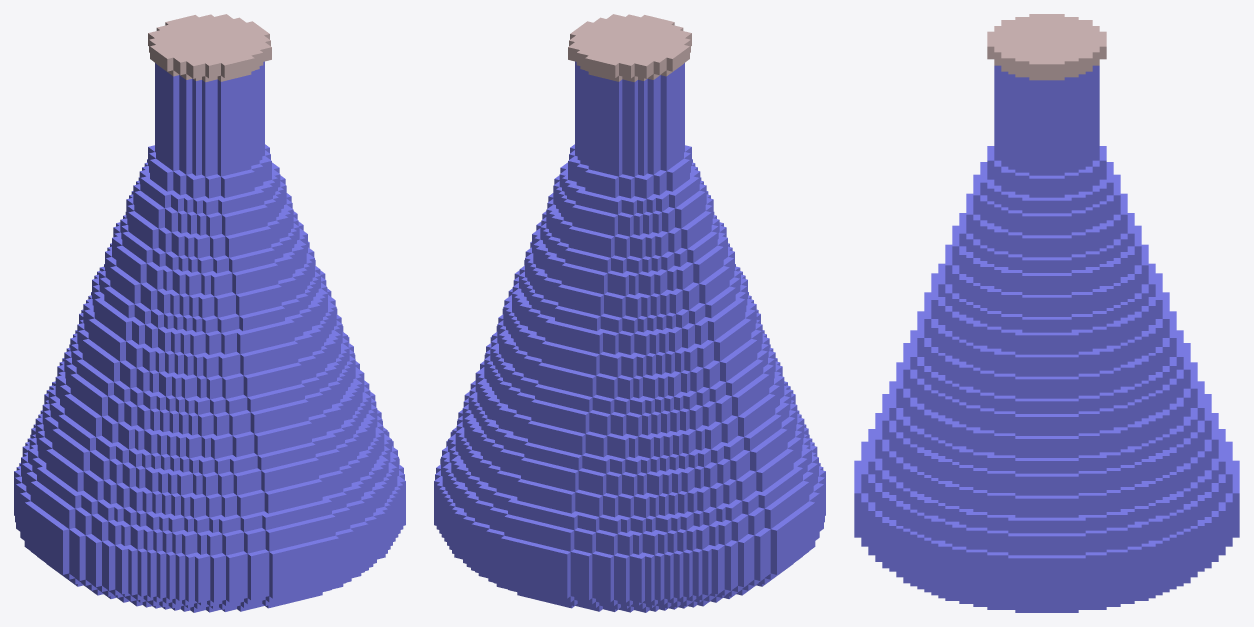
Rendered from Flask3-6-1.fbx.
The picture shows the model from 3 angles, left to right: view 1: azimuth 30°, elevation 25°; view 2: azimuth 150°, elevation 25°; view 3: azimuth 270°, elevation 25°; orthographic projection.
Parts seen in each view (by area): view 1: Flask3-6-1.001, Flask3-6-1; view 2: Flask3-6-1.001, Flask3-6-1; view 3: Flask3-6-1.001, Flask3-6-1.
Boxes of the visible parts, bbox=[...] form: Flask3-6-1.001: bbox=[14, 61, 405, 612]; Flask3-6-1: bbox=[148, 14, 271, 82]; Flask3-6-1.001: bbox=[434, 61, 825, 612]; Flask3-6-1: bbox=[568, 14, 691, 82]; Flask3-6-1.001: bbox=[854, 65, 1239, 612]; Flask3-6-1: bbox=[987, 14, 1106, 80].
Bounding box in the file's own units: 5.5 × 7.9 × 5.5.
